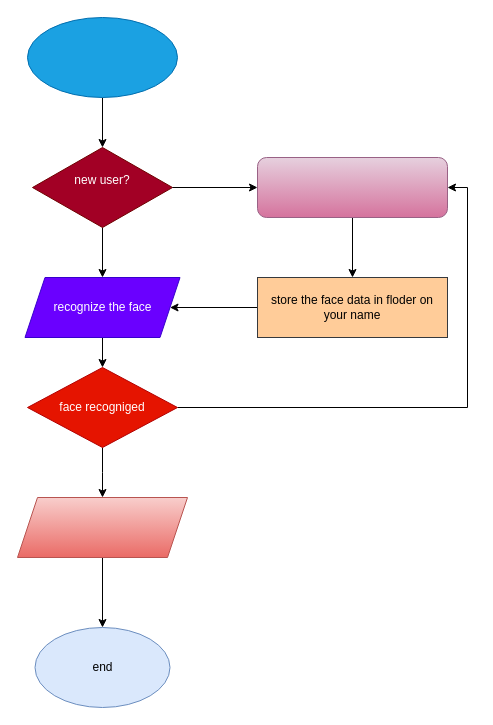
Some shapes in this 493 by 725 pixel diagram are drawn without their labels. Each missing label, with the centre of its shape:
give your photograph: the point at 352,187
start: the point at 102,57
store in csv file with registeration number& date time of entry: the point at 102,527
